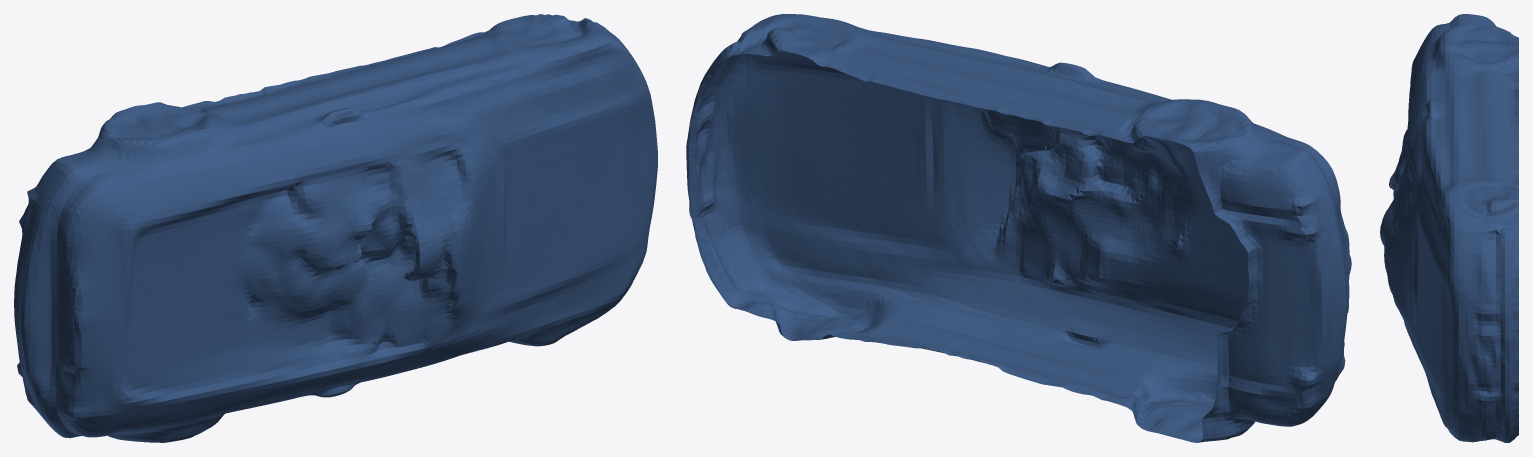
3 renders of one model, left to right at view 1: azimuth 30°, elevation 25°; view 2: azimuth 150°, elevation 25°; view 3: azimuth 270°, elevation 25°, orthographic. The views are drawn at different scales.
Visible parts, largest first — view 1: geometry_0; view 2: geometry_0; view 3: geometry_0.
Boxes of the visible parts, x1,y1,x2,y2 form: geometry_0: (14, 14, 657, 442); geometry_0: (686, 14, 1351, 442); geometry_0: (1380, 14, 1518, 442).
Bounding box in the file's own units: 4.06 × 1.85 × 0.9576.
